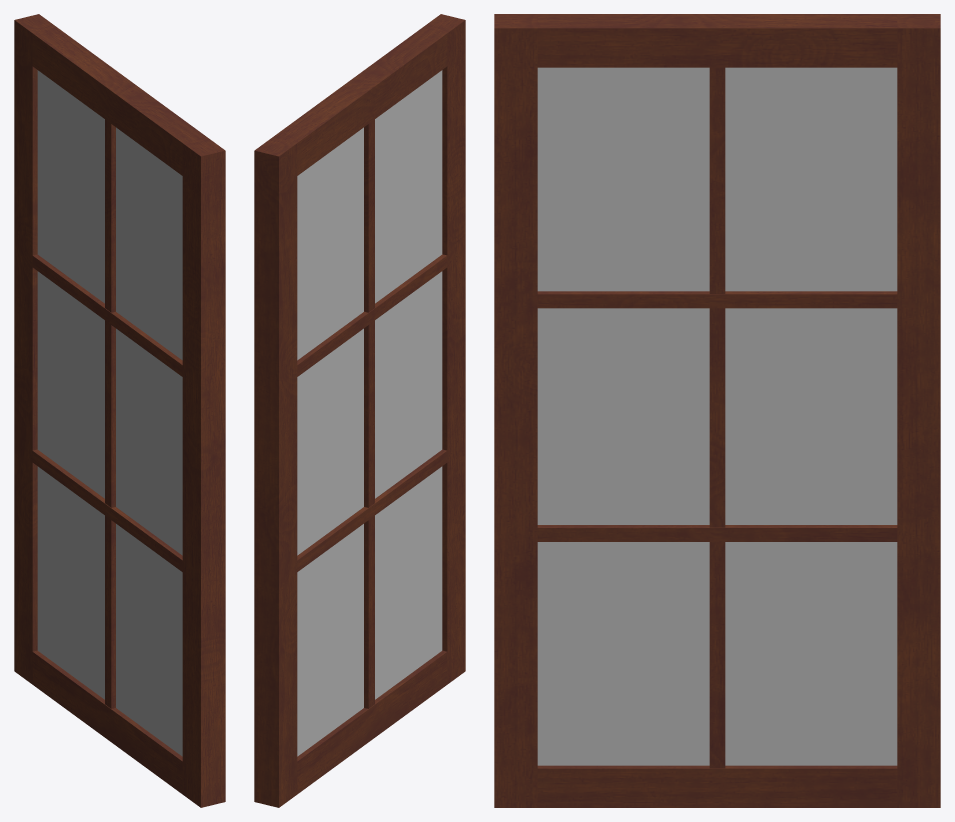
Rendered from SM_InnerDoor01G.fbx.
3 renders of one model, left to right at view 1: azimuth 30°, elevation 25°; view 2: azimuth 150°, elevation 25°; view 3: azimuth 270°, elevation 25°, orthographic. The views are drawn at different scales.
Visible parts, largest first — view 1: SM_InnerDoor01G; view 2: SM_InnerDoor01G; view 3: SM_InnerDoor01G.
Part boxes in pixels (<box>): SM_InnerDoor01G: <box>14,14,225,807</box>; SM_InnerDoor01G: <box>254,14,465,807</box>; SM_InnerDoor01G: <box>494,14,940,807</box>.
Size of the model in its own units: 4.64 by 61 by 117.
